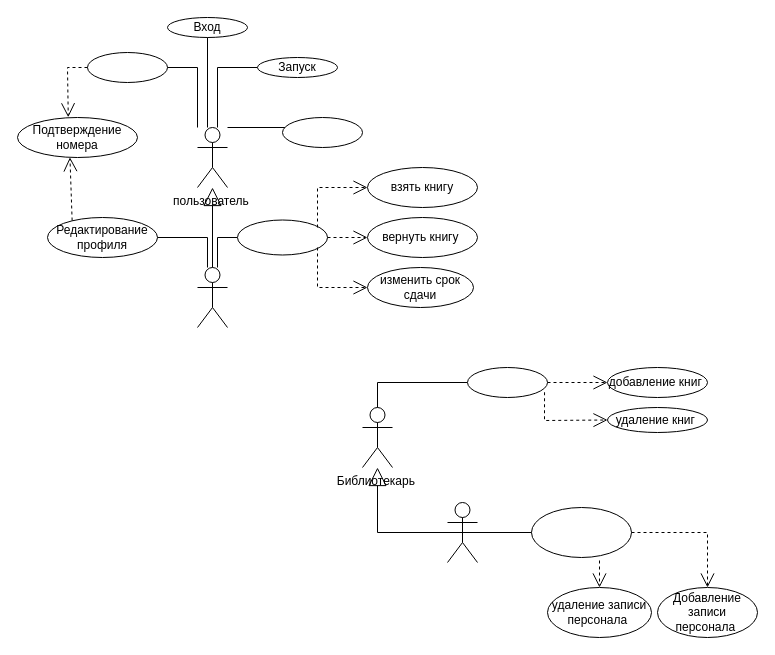
Some shapes in this 775 by 655 pixel diagram are drawn without their labels. Here are the shapes that lost their labels. From the top down, the centre of each, then its label:
pixel 127 67: Регистрация
pixel 322 132: Просмотр книг
pixel 282 237: допуск к книгам
pixel 212 297: Авторизированный
pixel 507 382: работа с книгами
pixel 462 532: Администратор
pixel 581 532: работа с персоналом
